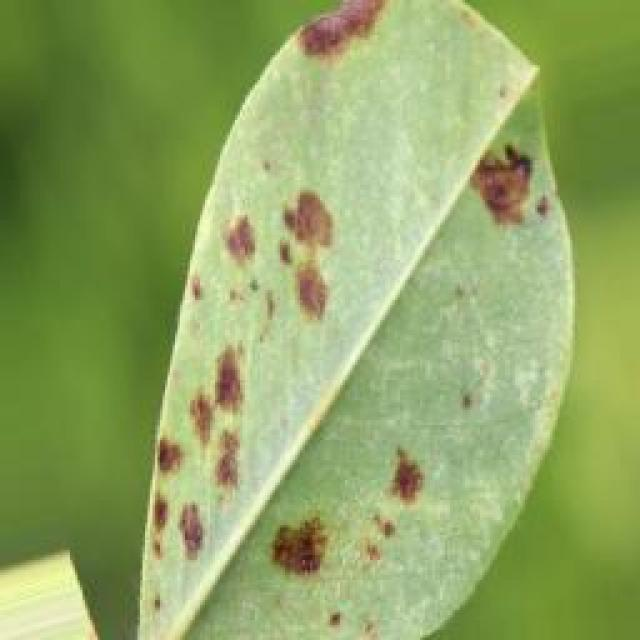Whitefly: (114, 0, 562, 640)
